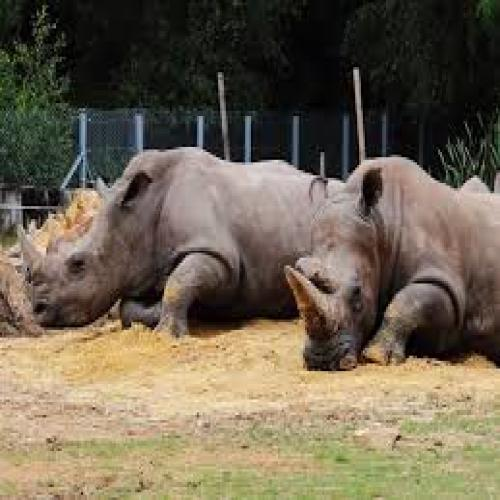rhino-endangered: (19, 151, 340, 336), (290, 162, 498, 363)
